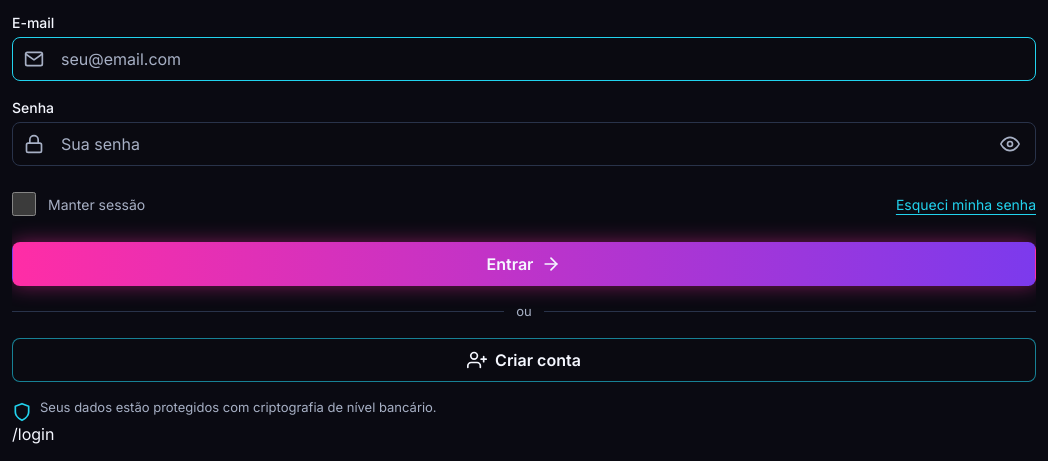
LoginForm (AUTH-001) › encaminha conforme o estado da sessao (0)
The image size is (1048, 461).
Step 1. Type "ana@exemplo.com" into the field labelled "E-mail" → (524, 59), box [12,37,1036,81]
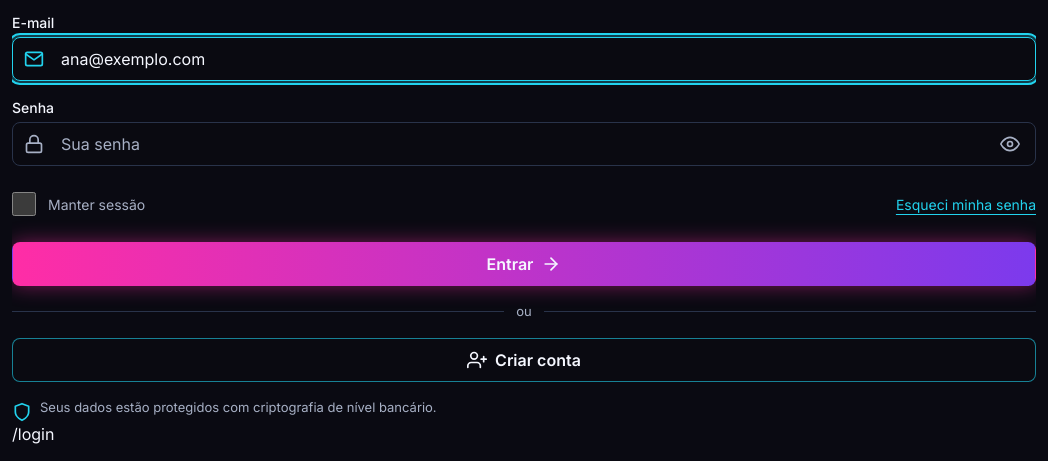
Step 2. Type "minha senha" into the password field labelled "Senha" → (524, 144), box [12,122,1036,166]
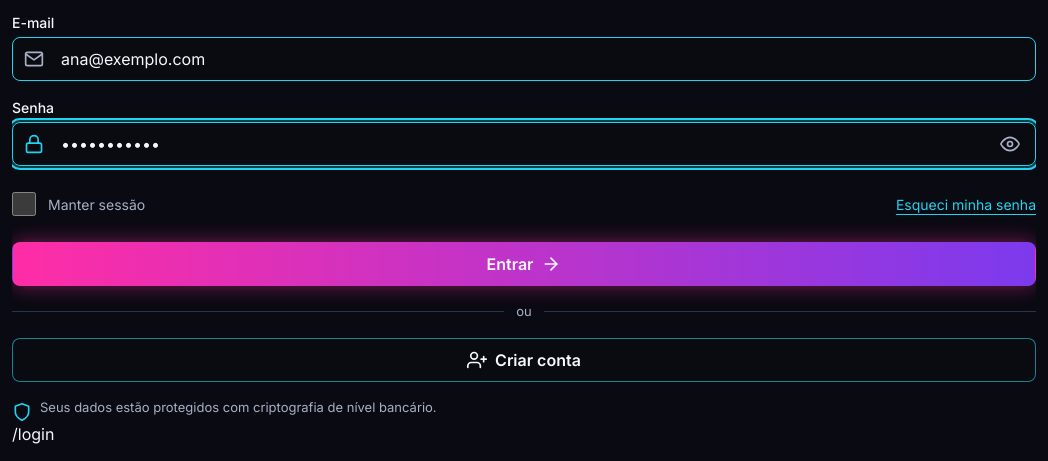
Step 3. Click the button "Entrar" → (524, 264), box [12,242,1036,286]
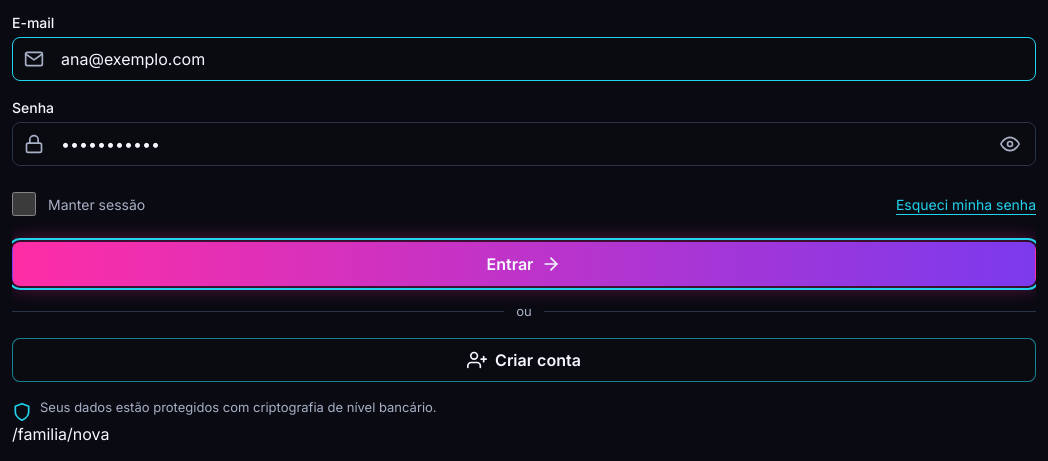
Check: the text with test id "location" reads "/familia/nova", box [12,424,110,444]
